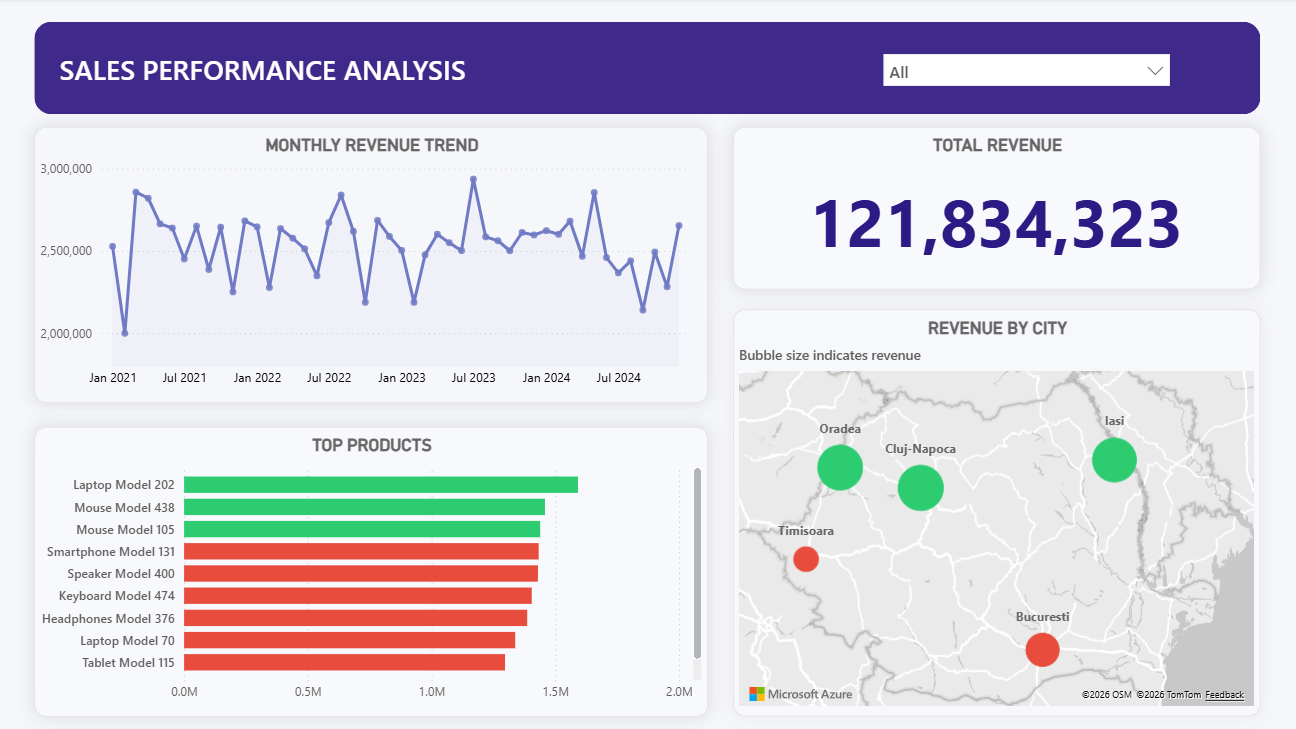

What the dashboard file says about the page in this screenshot:
{"tool":"powerbi","page":{"name":"Overview","canvas":[1280,720],"ordinal":0},"visuals":[{"type":"card","title":"TOTAL REVENUE","fields":{"Values":["Sum(dwh FactSales.Revenue)"]},"box":[723.9,126,516,159],"z":0},{"type":"lineChart","title":"MONTHLY REVENUE TREND","fields":{"Category":["dwh DimDate.MonthStart.Variation.Date Hierarchy.Year","dwh DimDate.MonthStart.Variation.Date Hierarchy.Month"],"Y":["Sum(dwh FactSales.Revenue)"]},"box":[40.4,126,659.1,270.2],"z":1000},{"type":"clusteredBarChart","title":"TOP PRODUCTS","fields":{"Category":["dwh DimProduct.ProductName"],"Y":["dwh DimProduct.Product Revenue"]},"box":[40.4,419.4,659.1,283.7],"z":2000},{"type":"azureMap","title":"REVENUE BY CITY","fields":{"Category":["dwh DimStore.City"],"Size":["dwh DimCustomer.City Revenue"]},"box":[723.9,304.5,516,398.6],"z":3000},{"type":"shape","box":[40.4,23.2,1199.6,90.5],"z":4001},{"type":"slicer","title":"YEAR ","fields":{"Values":["dwh DimDate.YearNumber"]},"box":[860.9,42.8,300,56.3],"z":4501}]}

Visuals, with their boxes in screenshot pixels (x1, y1, x2, y2), scaled from the page's 1280x720 canvas onto the 1296x729 screenshot:
"TOTAL REVENUE" card: rect(733, 128, 1255, 289)
"MONTHLY REVENUE TREND" lineChart: rect(41, 128, 708, 401)
"TOP PRODUCTS" clusteredBarChart: rect(41, 425, 708, 712)
"REVENUE BY CITY" azureMap: rect(733, 308, 1255, 712)
shape: rect(41, 23, 1256, 115)
"YEAR " slicer: rect(872, 43, 1175, 100)
